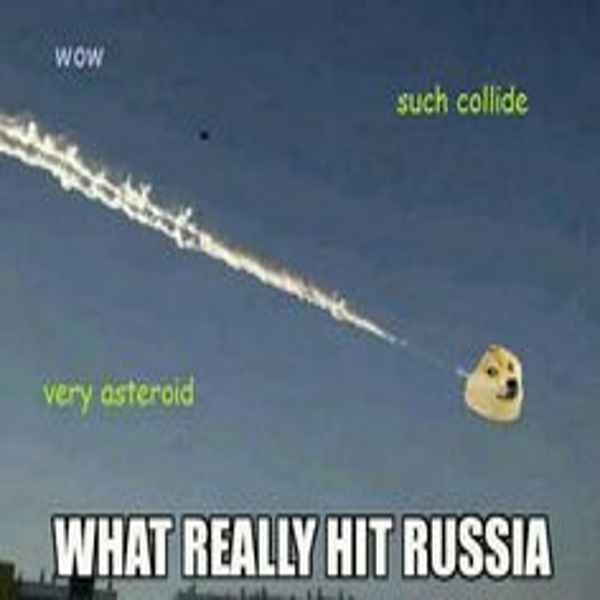doge: (462, 338, 529, 430)
